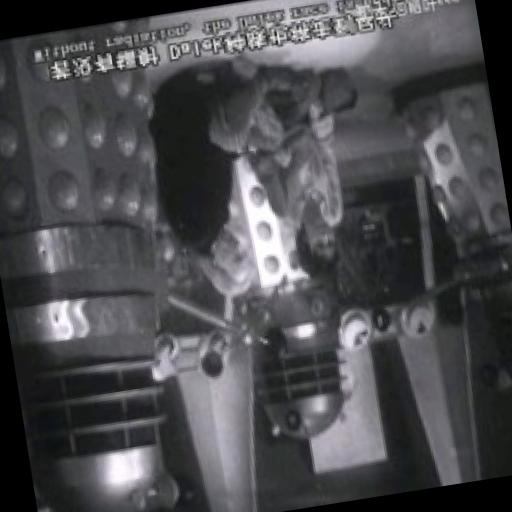dalek: (0, 12, 239, 512), (194, 103, 368, 457), (358, 60, 512, 422)
